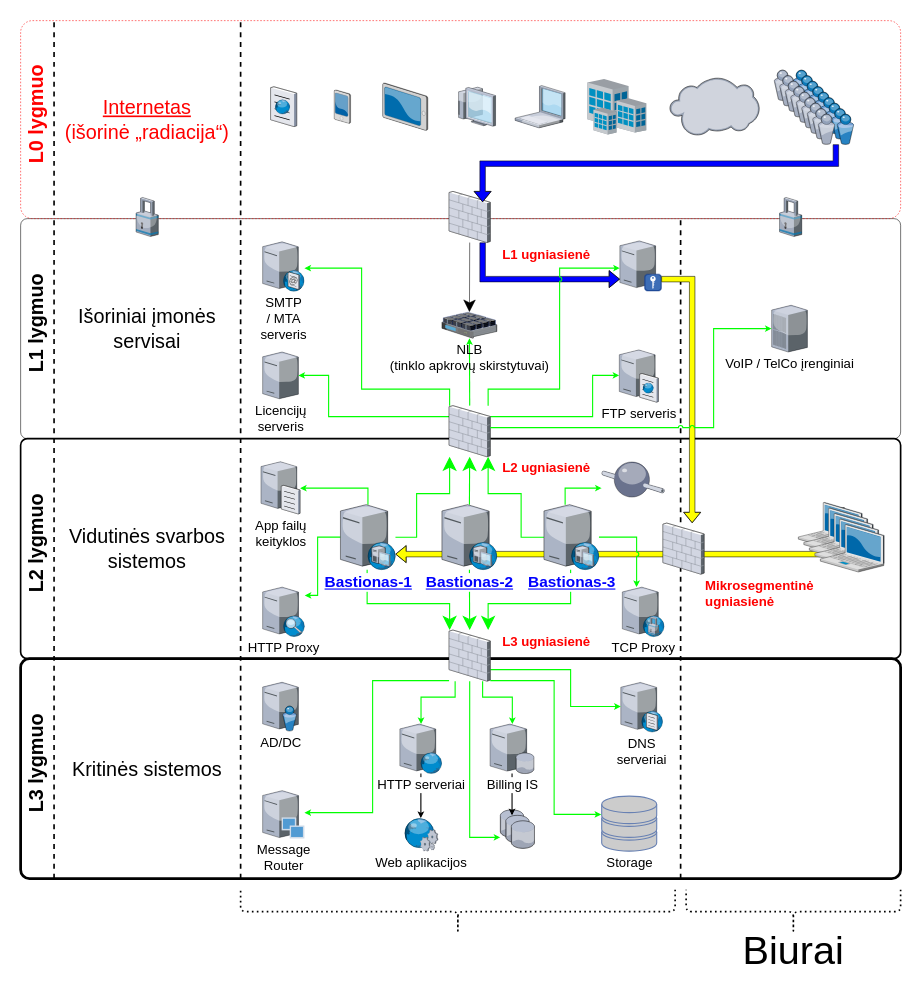
The diagram is 921 pixels wide and 987 high, and some of its shapes have lost their labels. The centre of each missing label's shape, as x and y in pixels:
DB serveriai: (522,834)
Duomenų centrai: (458,911)
KDV: (852,548)
Middleware serveriai: (632,479)
VPN serveriai: (640,266)
